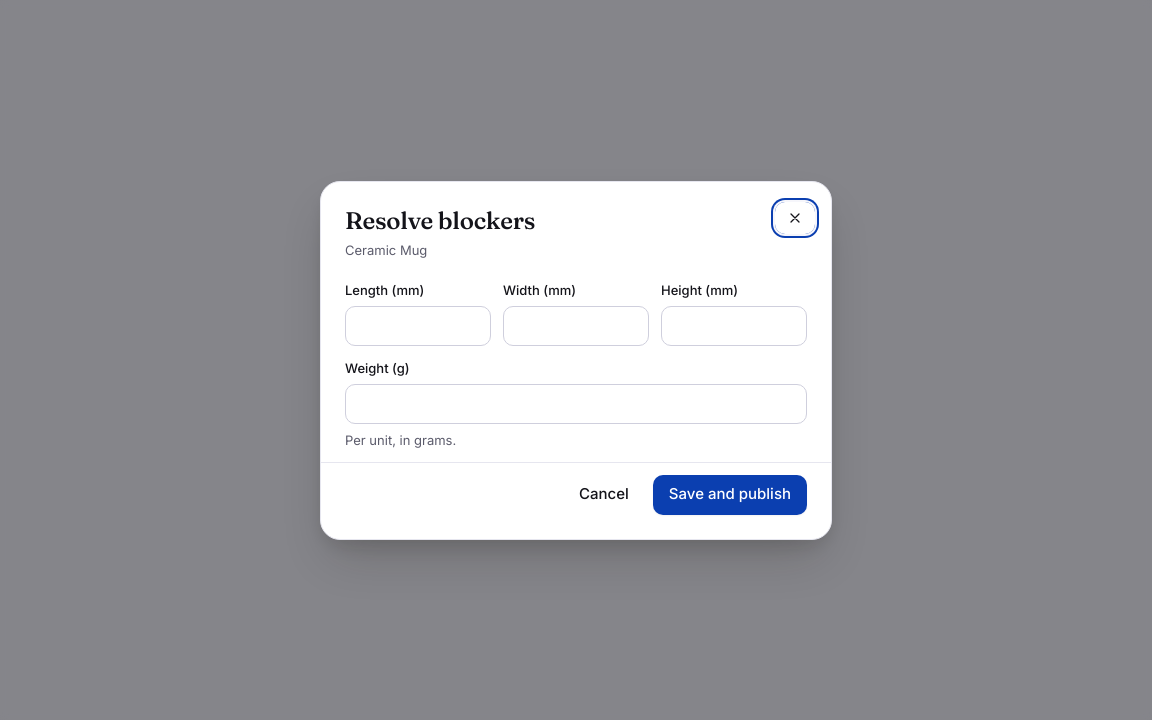
Test: blocks submit and flags the field when a value is not positive
In the field labelled "Length (mm)": (418, 326) 345,306 -> 491,346, type "0"
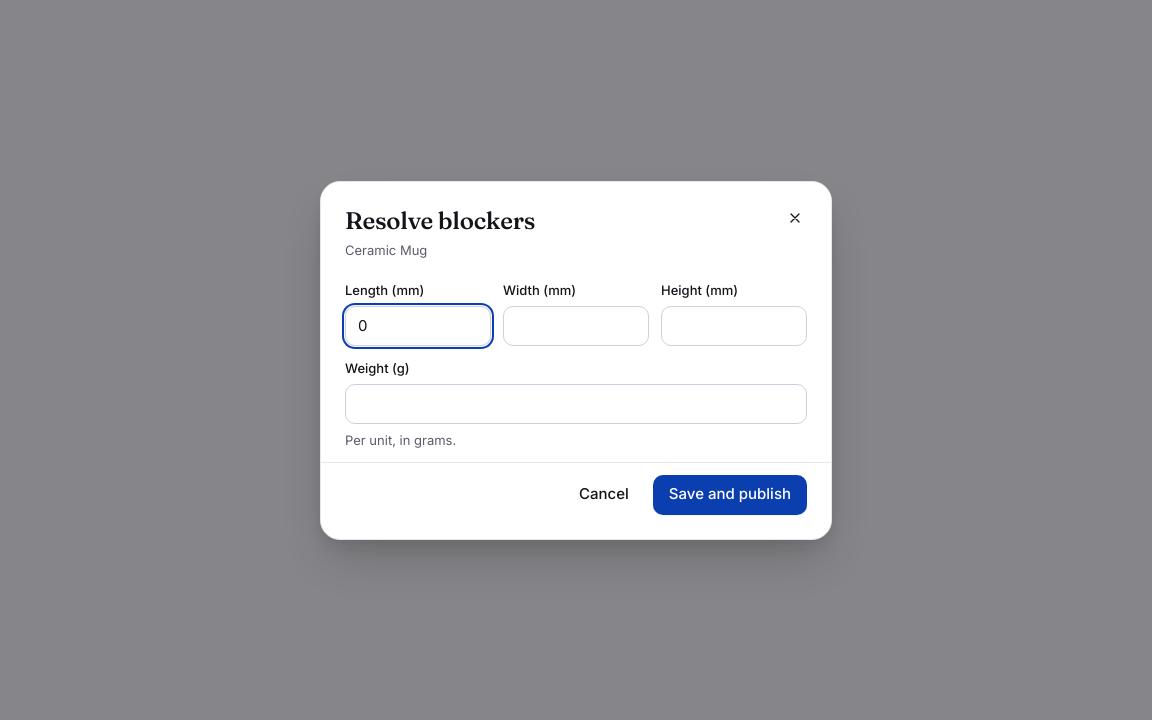
Click the button "Save and publish": (730, 494) 653,474 -> 807,514
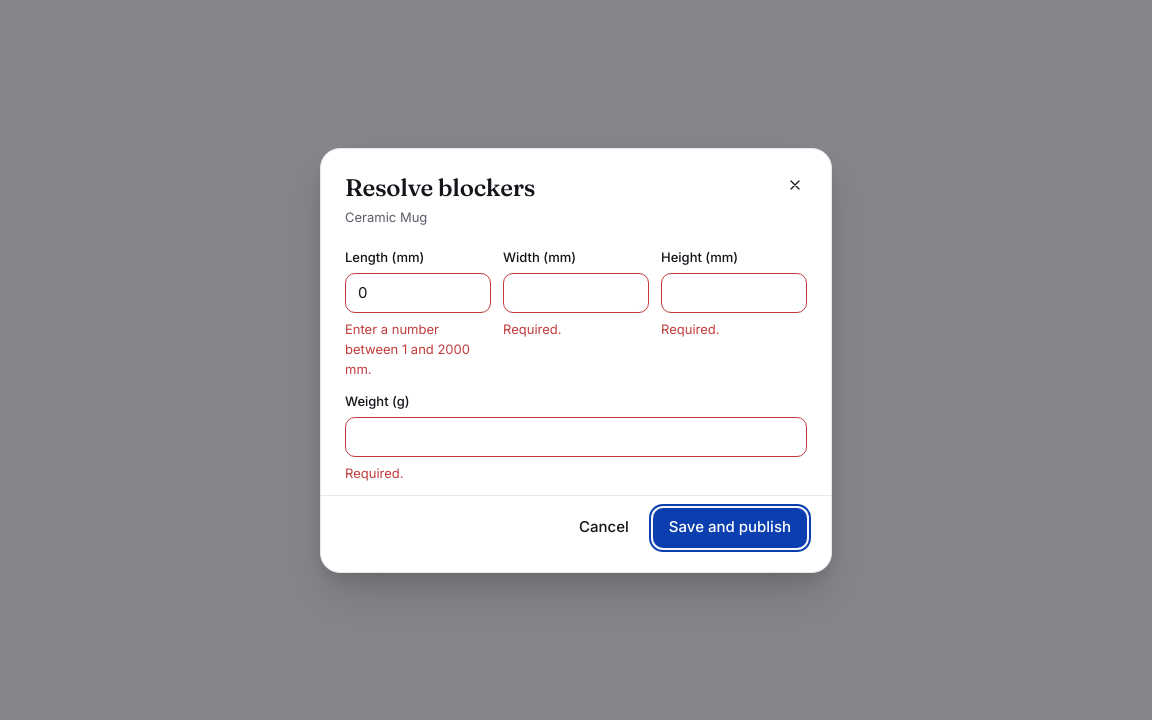
Expected: the text "Enter a number between 1 and 2000 mm." is shown, 345,318 -> 491,378
